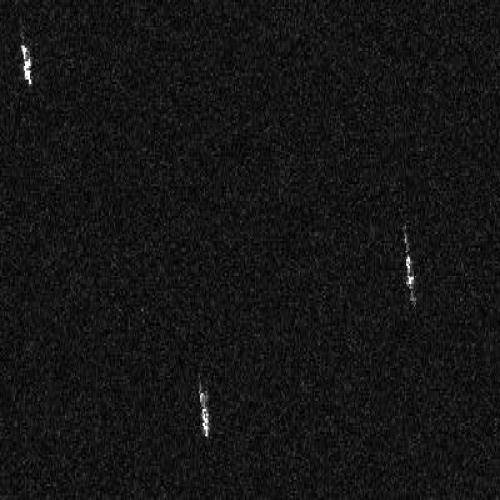ship: (403, 229, 417, 303), (197, 373, 211, 441), (20, 41, 33, 88)
